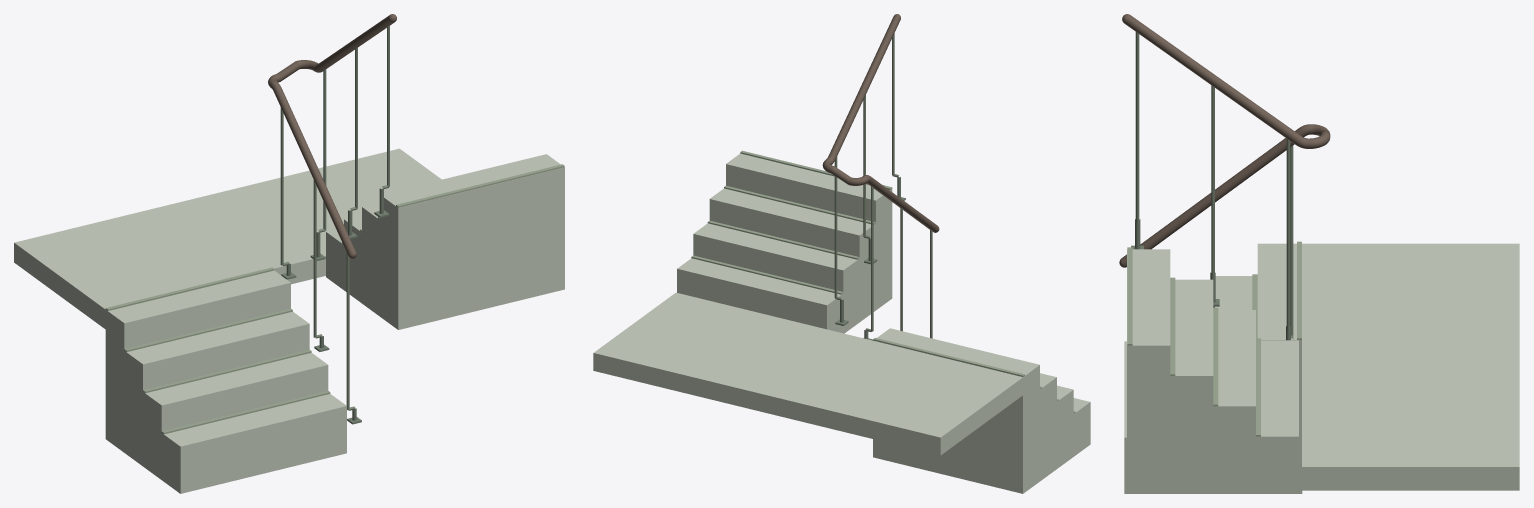
3 views of the same model, side by side, from view 1: azimuth 30°, elevation 25°; view 2: azimuth 150°, elevation 25°; view 3: azimuth 270°, elevation 25° (orthographic). The views are drawn at different scales.
Parts seen in each view (by area): view 1: Estimated return landing, Estimated flight 2 step 4, Estimated flight 1 step 1, Estimated flight 1 step 4, Estimated flight 1 step 3, Estimated flight 1 step 2, Estimated nosing (×5), Estimated flight 2 step 3, Recorded bracket drop (×3), Flight segment 1, Estimated flight 2 step 2, Estimated flight 2 step 1 (+1 smaller); view 2: Estimated return landing, Estimated flight 1 step 4, Estimated flight 2 step 4, Estimated flight 2 step 3, Estimated flight 2 step 2, Estimated flight 2 step 1, Estimated nosing (×4), Estimated flight 1 step 3, Flight segment 5, Estimated flight 1 step 2, Estimated flight 1 step 1, Flight segment 1; view 3: Estimated return landing, Estimated flight 2 step 4, Estimated flight 2 step 3, Estimated flight 2 step 2, Estimated flight 2 step 1, Estimated flight 1 step 4, Recorded bracket drop (×4), Estimated nosing (×5), Flight segment 5, Flight segment 1, Estimated flight 1 step 3, Estimated flight 1 step 1.
Boxes of the visible parts, left/top/right/bottom form: Estimated return landing: left=14, top=148, right=441, bottom=329; Estimated flight 2 step 4: left=380, top=154, right=564, bottom=329; Estimated flight 1 step 1: left=161, top=394, right=346, bottom=493; Estimated flight 1 step 4: left=105, top=270, right=290, bottom=452; Estimated flight 1 step 3: left=124, top=311, right=309, bottom=466; Estimated flight 1 step 2: left=143, top=352, right=328, bottom=479; Estimated nosing (×5): left=105, top=164, right=564, bottom=434; Estimated flight 2 step 3: left=362, top=203, right=380, bottom=316; Recorded bracket drop (×3): left=280, top=107, right=349, bottom=409; Flight segment 1: left=273, top=88, right=355, bottom=255; Estimated flight 2 step 2: left=344, top=215, right=362, bottom=303; Estimated flight 2 step 1: left=326, top=229, right=344, bottom=290; Estimated return landing: left=593, top=292, right=1022, bottom=455; Estimated flight 1 step 4: left=873, top=328, right=1039, bottom=493; Estimated flight 2 step 4: left=726, top=153, right=892, bottom=309; Estimated flight 2 step 3: left=709, top=188, right=875, bottom=321; Estimated flight 2 step 2: left=693, top=223, right=859, bottom=333; Estimated flight 2 step 1: left=677, top=258, right=843, bottom=333; Estimated nosing (×4): left=691, top=185, right=1024, bottom=376; Estimated flight 1 step 3: left=1040, top=373, right=1056, bottom=481; Flight segment 5: left=829, top=16, right=900, bottom=158; Estimated flight 1 step 2: left=1057, top=385, right=1073, bottom=468; Estimated flight 1 step 1: left=1073, top=398, right=1090, bottom=456; Flight segment 1: left=867, top=177, right=938, bottom=232; Estimated return landing: left=1302, top=243, right=1519, bottom=490; Estimated flight 2 step 4: left=1127, top=249, right=1170, bottom=490; Estimated flight 2 step 3: left=1170, top=279, right=1213, bottom=490; Estimated flight 2 step 2: left=1213, top=310, right=1255, bottom=490; Estimated flight 2 step 1: left=1255, top=340, right=1298, bottom=490; Estimated flight 1 step 4: left=1257, top=243, right=1302, bottom=493; Recorded bracket drop (×4): left=1135, top=32, right=1293, bottom=335; Estimated nosing (×5): left=1127, top=241, right=1301, bottom=436; Flight segment 5: left=1125, top=15, right=1301, bottom=144; Flight segment 1: left=1121, top=128, right=1304, bottom=266; Estimated flight 1 step 3: left=1213, top=276, right=1257, bottom=493; Estimated flight 1 step 1: left=1124, top=341, right=1169, bottom=493.
Bounding box in the file's own units: 2.43 × 2.57 × 1.84.
